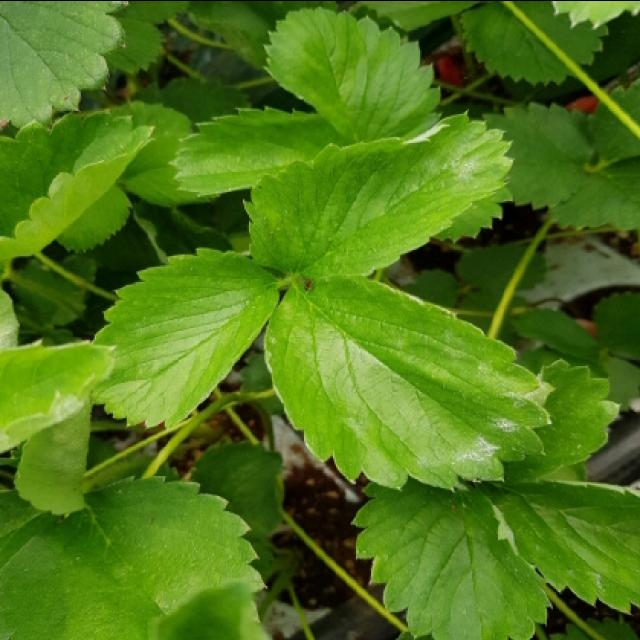Powdery Mildew Leaf: (264, 272, 552, 491), (242, 110, 514, 275), (0, 338, 118, 452)
